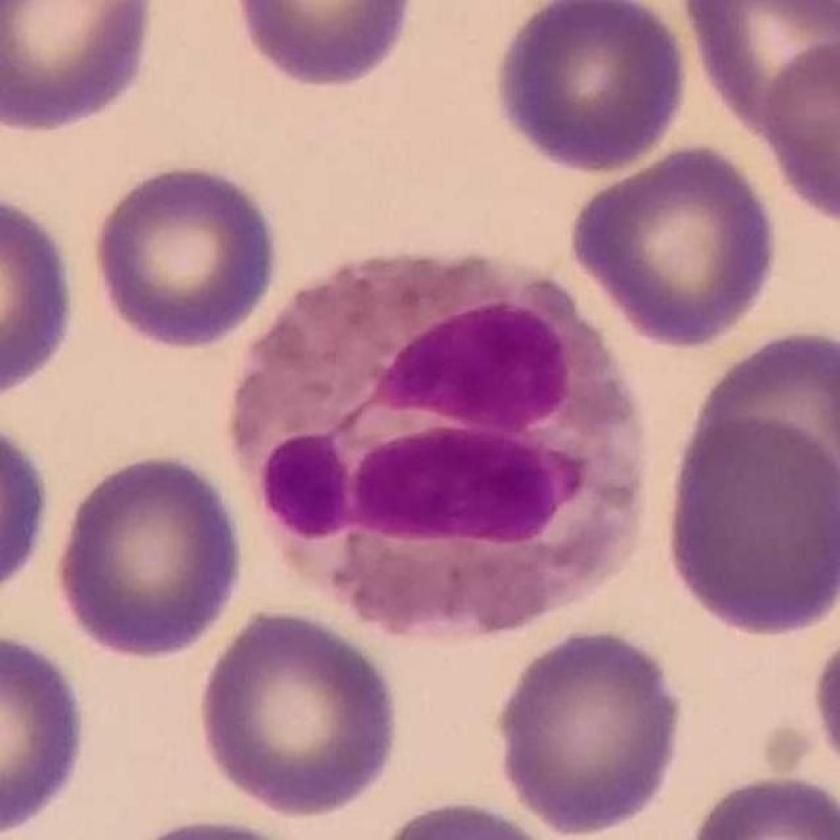eosinophil: (232, 254, 655, 640)
